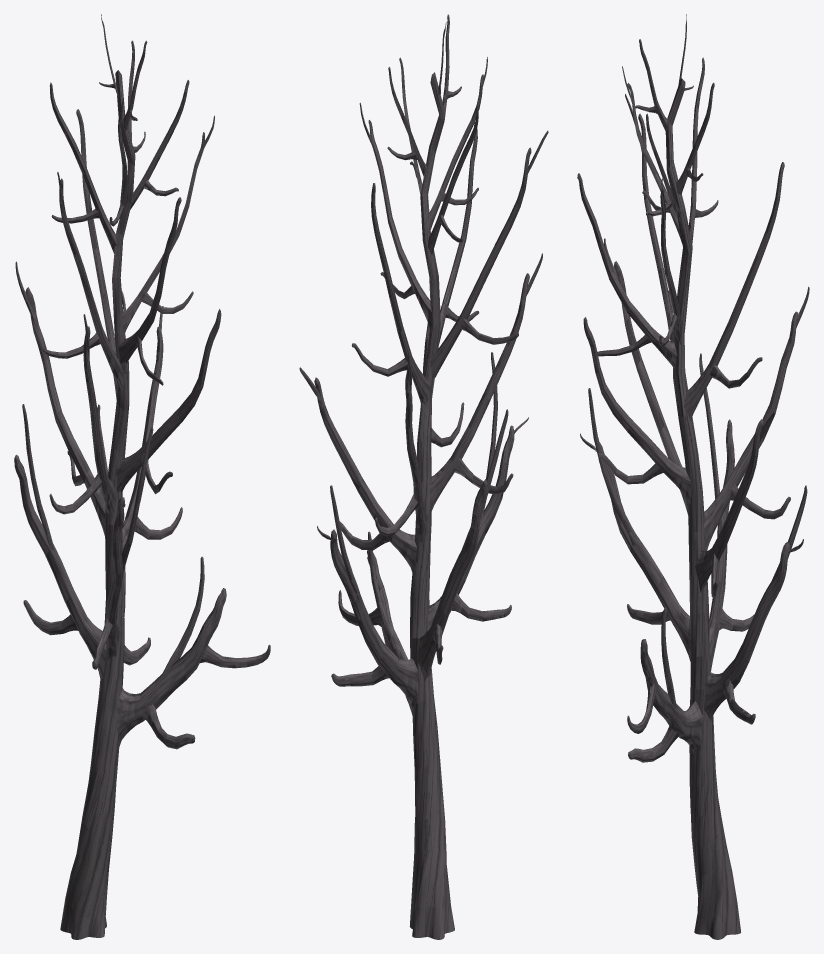
File: arvore-altafina.glb
The picture shows the model from 3 angles, left to right: view 1: azimuth 30°, elevation 25°; view 2: azimuth 150°, elevation 25°; view 3: azimuth 270°, elevation 25°; orthographic projection. The views are drawn at different scales.
Size of the model in its own units: 4.04 by 16.66 by 3.83.
Materials: 1 (1 with a texture image).
